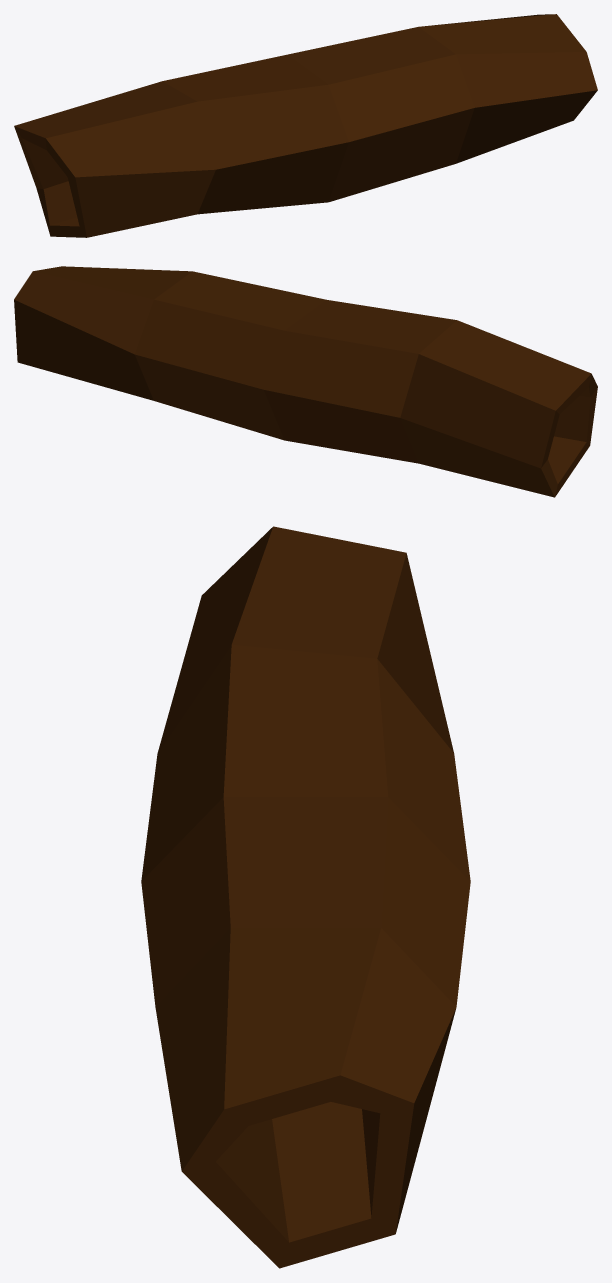
File: Tronco1.fbx
3 views of the same model, one above another, from view 1: azimuth 30°, elevation 25°; view 2: azimuth 150°, elevation 25°; view 3: azimuth 270°, elevation 25° (orthographic). The views are drawn at different scales.
Parts seen in each view (by area): view 1: Tronco1; view 2: Tronco1; view 3: Tronco1.
Part boxes in pixels (left/top/right/bottom): Tronco1: left=14, top=14, right=597, bottom=237; Tronco1: left=14, top=266, right=597, bottom=497; Tronco1: left=141, top=526, right=470, bottom=1268.
Bounding box in the file's own units: 345 × 81.45 × 92.96.
